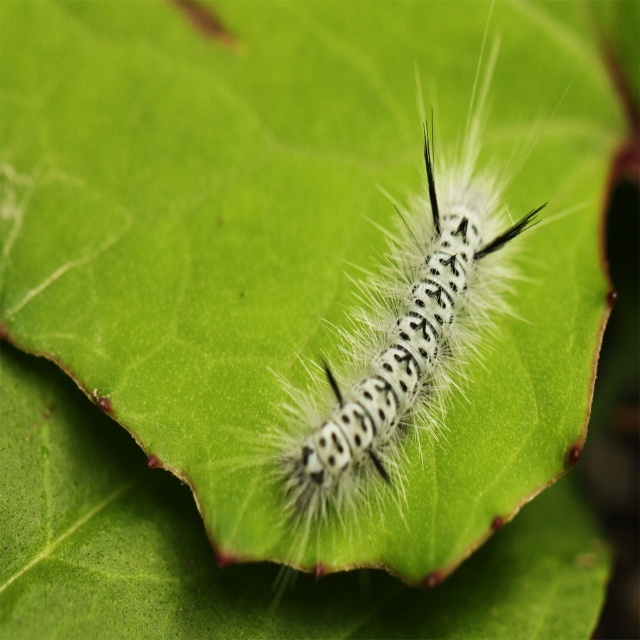Caterpillar: (195, 0, 598, 639)
